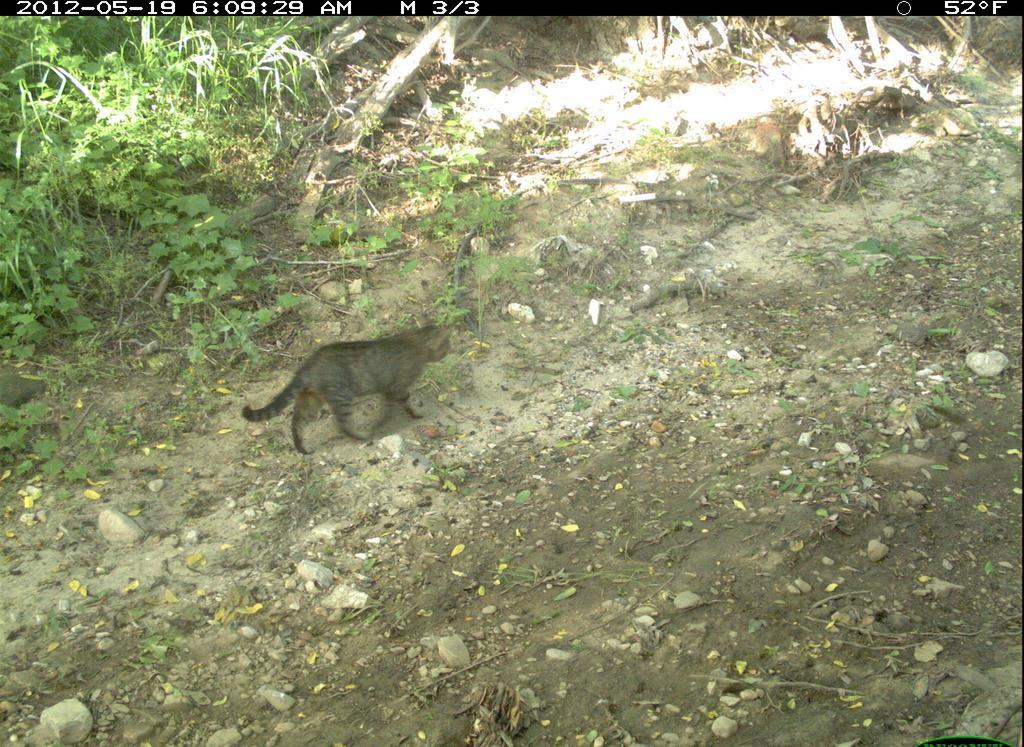cat: (233, 309, 461, 465)
